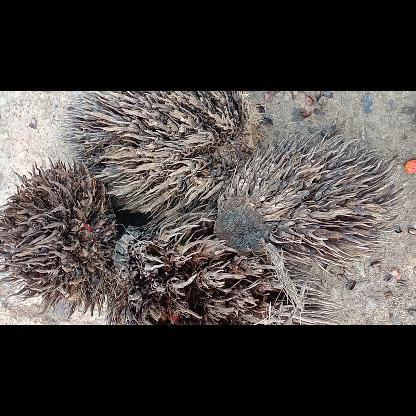Janjang kosong: (215, 132, 411, 274), (106, 212, 341, 324), (61, 91, 261, 221), (0, 156, 116, 315)
